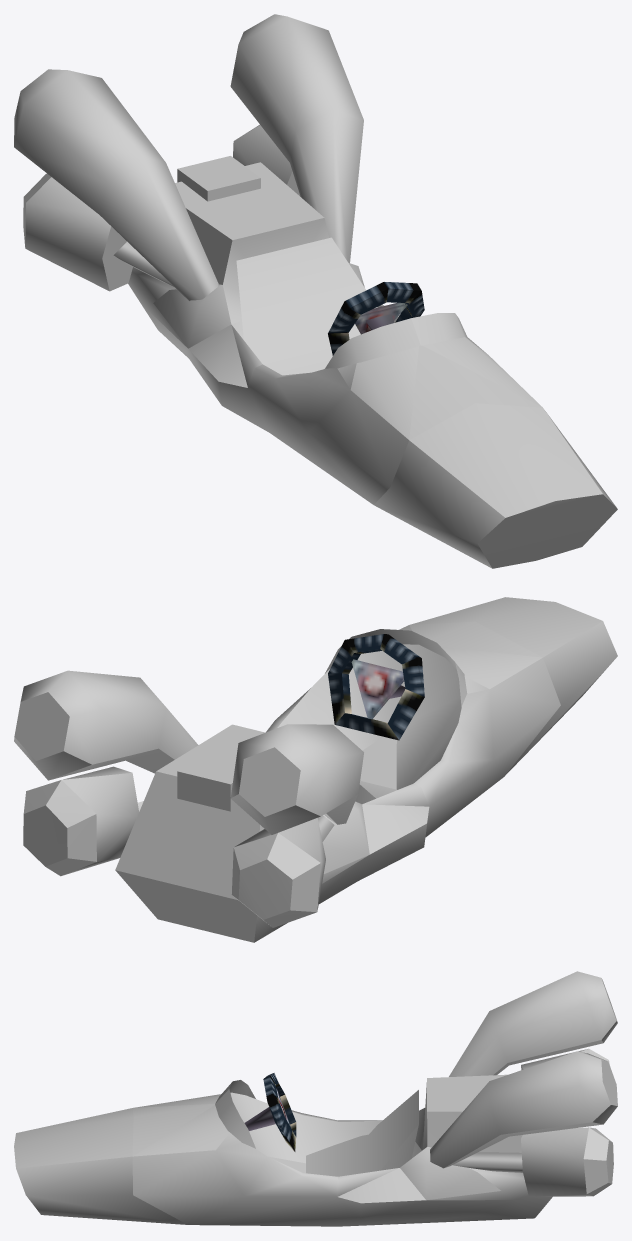
File: body_dsh.dae
3 renders of one model, top to bottom at view 1: azimuth 30°, elevation 25°; view 2: azimuth 150°, elevation 25°; view 3: azimuth 270°, elevation 25°, orthographic. The views are drawn at different scales.
Visible parts, largest first — view 1: _0_0_node.001, _1_0_node; view 2: _0_0_node.001, _1_0_node; view 3: _0_0_node.001, _1_0_node.
Boxes of the visible parts, left/top/right/bottom form: _0_0_node.001: left=14, top=14, right=617, bottom=568; _1_0_node: left=328, top=282, right=424, bottom=355; _0_0_node.001: left=14, top=597, right=617, bottom=942; _1_0_node: left=328, top=634, right=424, bottom=740; _0_0_node.001: left=14, top=971, right=617, bottom=1226; _1_0_node: left=244, top=1073, right=296, bottom=1151.
Bounding box in the file's own units: 11.55 × 26.41 × 9.19.
